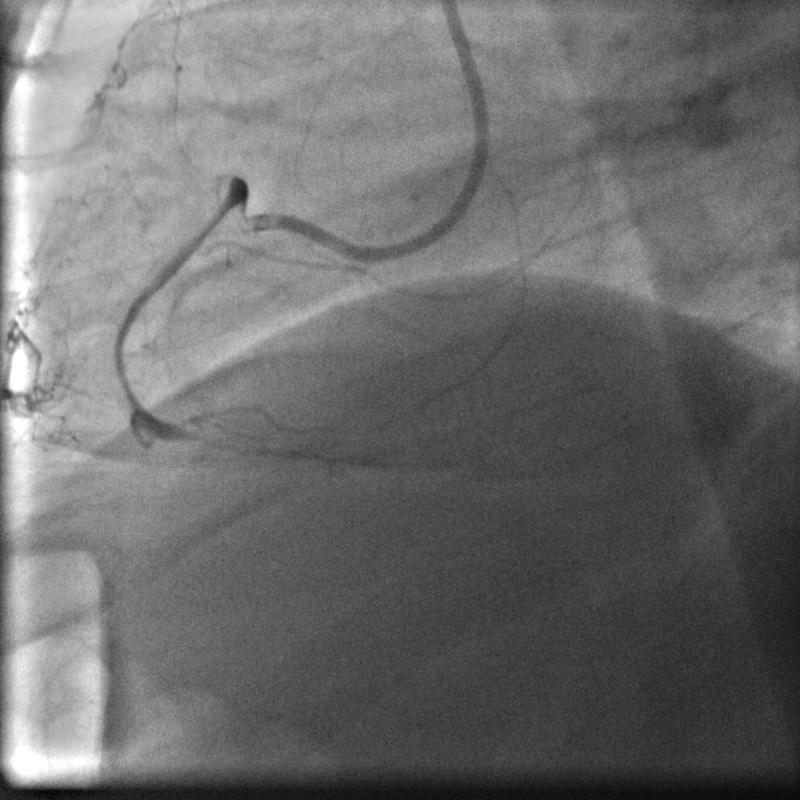Stenosis: (172, 421, 232, 455)
